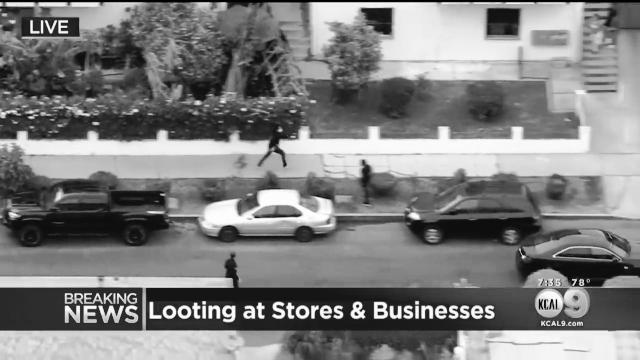berlari: (255, 121, 295, 171)
